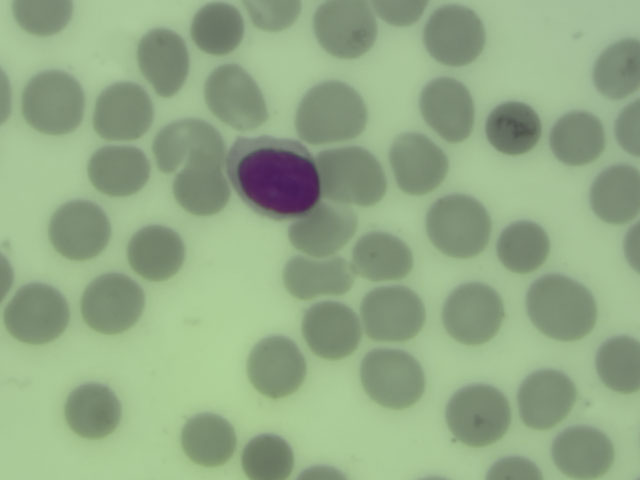RBC: (150, 117, 228, 168), (175, 409, 240, 468), (281, 204, 359, 252), (325, 148, 385, 207), (556, 417, 612, 480), (585, 37, 640, 101), (352, 231, 417, 285), (497, 215, 553, 277), (428, 192, 484, 254), (391, 133, 447, 195), (536, 276, 592, 338), (447, 284, 503, 346), (366, 282, 422, 344), (366, 349, 422, 411), (519, 365, 575, 427), (449, 381, 505, 443), (584, 160, 640, 222), (547, 106, 603, 168), (484, 98, 540, 160), (422, 75, 478, 137), (305, 81, 361, 143), (303, 303, 359, 365), (247, 335, 303, 397), (125, 220, 181, 282), (84, 272, 140, 334), (67, 379, 123, 441), (11, 283, 67, 345), (51, 199, 107, 261), (174, 155, 230, 217), (229, 153, 285, 215), (99, 81, 155, 143), (138, 31, 194, 93), (426, 3, 482, 65), (25, 72, 81, 134), (285, 253, 354, 301), (318, 1, 373, 60), (189, 1, 245, 58), (591, 334, 640, 394), (238, 427, 293, 480), (210, 64, 257, 126), (85, 147, 150, 191), (10, 1, 81, 40), (242, 1, 303, 36), (610, 98, 640, 160), (374, 1, 429, 34), (486, 450, 546, 480)
WBC: (230, 128, 322, 220)
